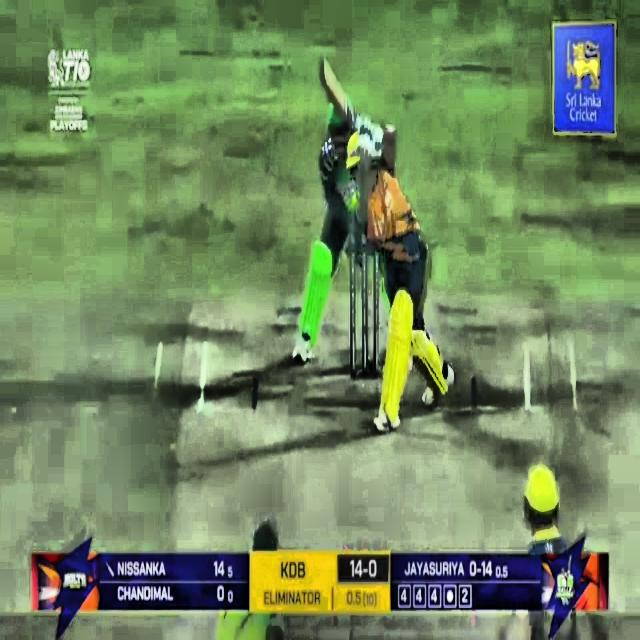Left-stump: (352, 255, 356, 377)
Middle-stump: (362, 256, 368, 377)
Right-stump: (375, 252, 378, 378)
